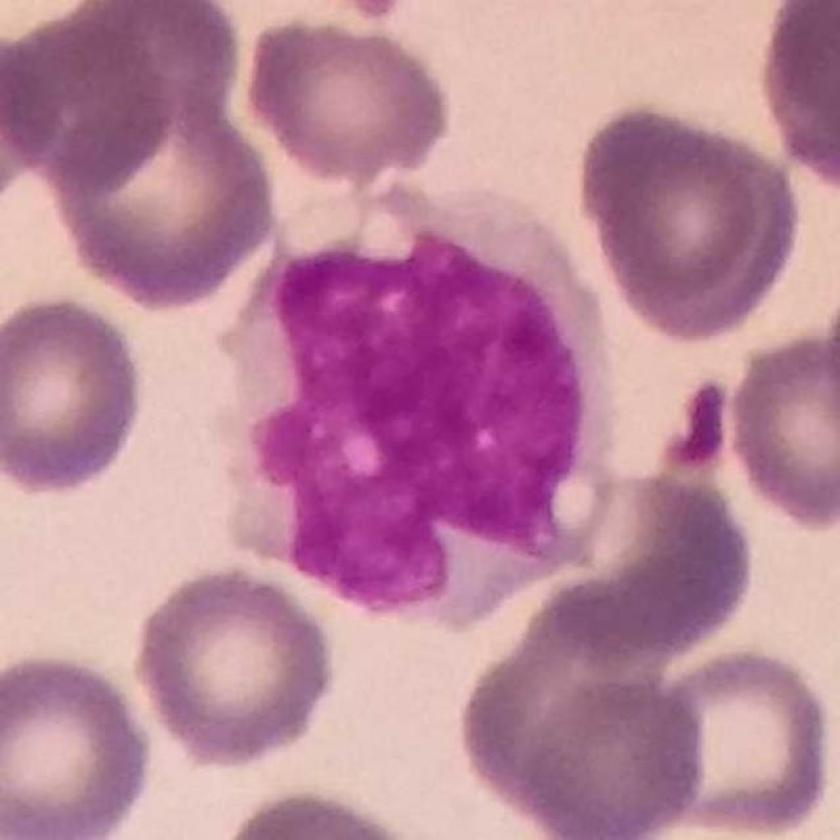monocyte: (211, 168, 614, 639)
